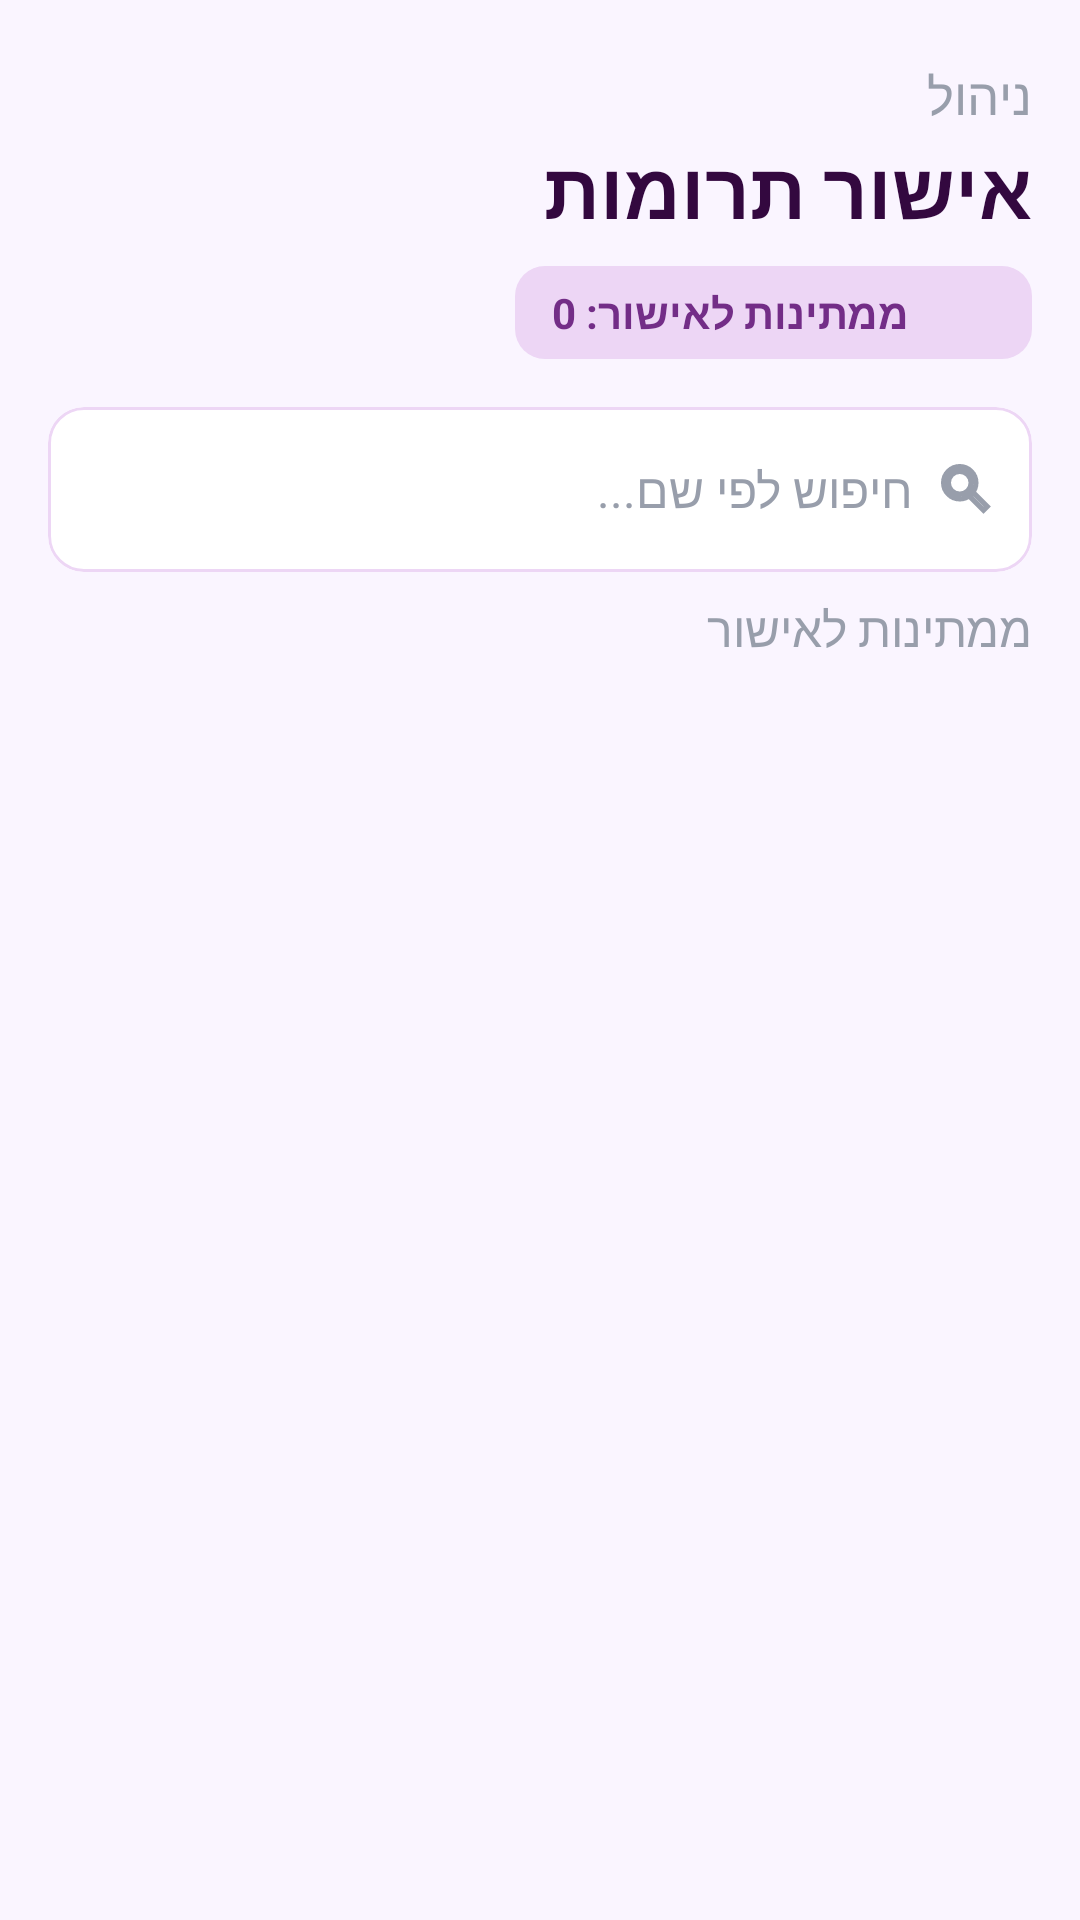

Screen size 1080 x 1920. Icon name, then its center in pixels as (x=x, y=y):
search: (x=966, y=489)
